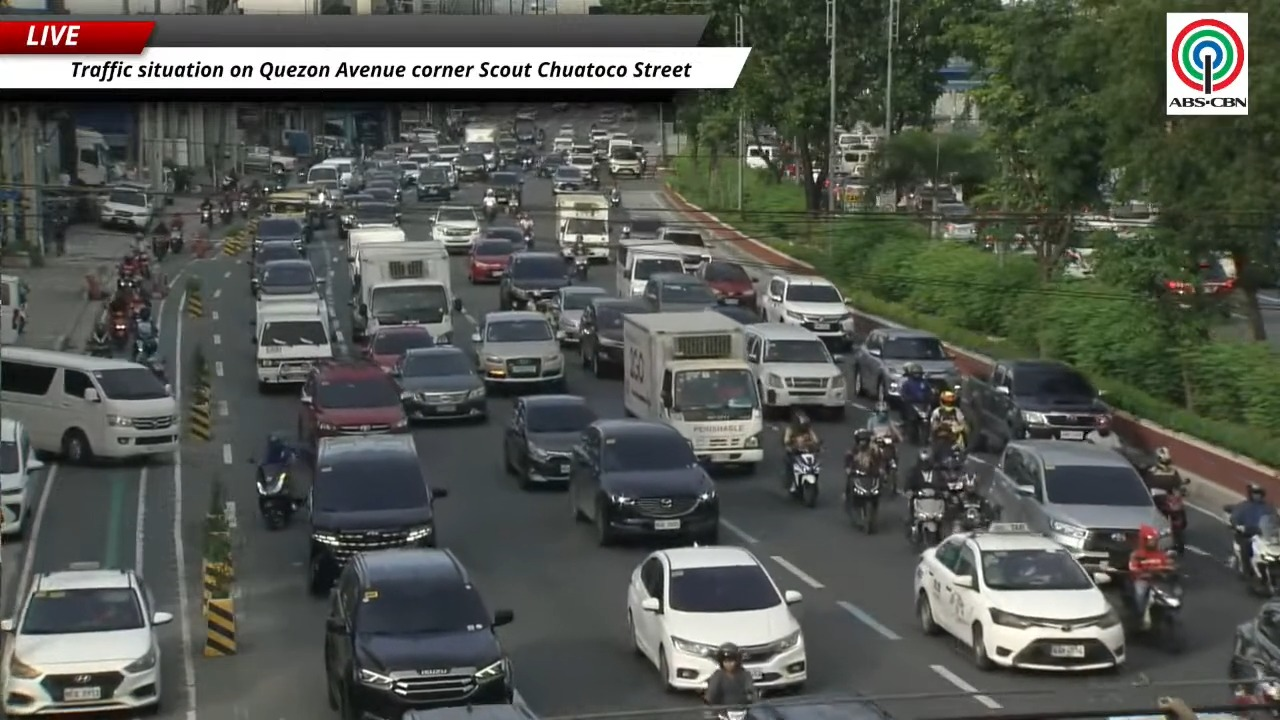car: (324, 549, 513, 719), (913, 523, 1125, 670), (0, 563, 173, 717), (626, 546, 807, 690), (287, 434, 447, 594), (985, 440, 1172, 572), (568, 419, 719, 545), (745, 323, 846, 418), (297, 361, 408, 446), (503, 395, 596, 488), (852, 328, 959, 402), (471, 311, 566, 390), (761, 273, 853, 348), (392, 347, 486, 420), (579, 298, 651, 377), (1228, 599, 1279, 701), (0, 418, 43, 535), (499, 251, 571, 310), (551, 285, 608, 343), (364, 325, 434, 371), (642, 272, 717, 312), (247, 240, 303, 292), (698, 259, 756, 309), (1163, 258, 1235, 297), (252, 258, 324, 296), (100, 184, 157, 232), (657, 225, 711, 272), (431, 205, 479, 253), (468, 237, 517, 283), (253, 217, 308, 251), (338, 193, 374, 238), (351, 195, 400, 228), (936, 203, 977, 242), (416, 165, 452, 200), (488, 171, 522, 207), (608, 144, 642, 177), (429, 153, 459, 190), (551, 164, 588, 192), (709, 304, 760, 324), (453, 153, 488, 181), (569, 148, 597, 182), (483, 225, 524, 247), (363, 181, 401, 204), (536, 153, 565, 178), (497, 137, 519, 167), (397, 159, 420, 184), (552, 132, 574, 157), (437, 144, 461, 165), (557, 123, 576, 139)
motorcycle: (1135, 570, 1184, 652), (1231, 516, 1279, 596), (256, 464, 297, 529), (1150, 488, 1186, 554), (844, 470, 880, 534), (908, 487, 945, 546), (787, 450, 820, 507), (952, 492, 991, 531), (875, 435, 897, 494), (903, 403, 931, 444), (141, 354, 166, 384), (109, 313, 129, 350), (130, 338, 157, 364), (85, 335, 113, 356), (134, 251, 152, 279), (573, 254, 589, 280), (152, 236, 168, 261), (168, 229, 183, 253), (716, 708, 747, 719), (220, 175, 237, 192), (219, 204, 233, 224), (200, 207, 213, 228), (238, 196, 250, 218), (484, 202, 497, 222), (523, 226, 534, 249), (610, 189, 621, 207), (521, 156, 533, 171), (621, 225, 631, 238)
truck: (622, 312, 763, 466), (958, 359, 1109, 451), (352, 240, 459, 343), (254, 296, 335, 390), (347, 227, 406, 293), (556, 193, 610, 261), (75, 127, 122, 186), (463, 126, 498, 170), (243, 146, 296, 173)
